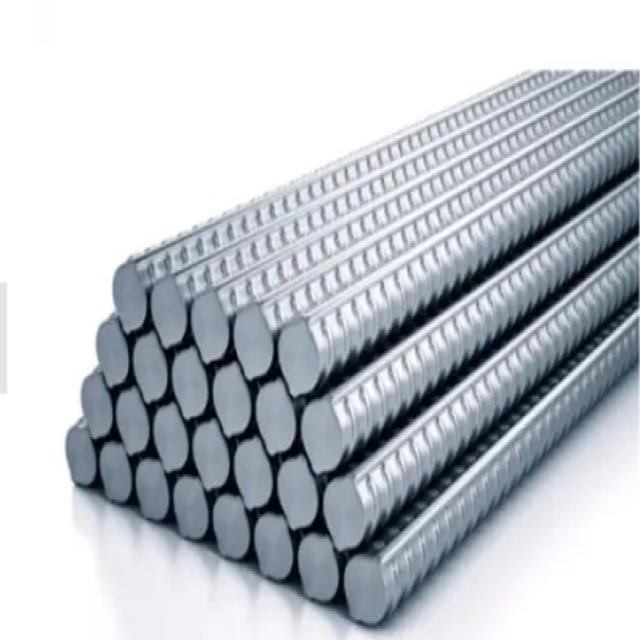Rebar: (228, 310, 277, 378), (278, 455, 319, 532), (301, 404, 346, 471), (326, 481, 369, 551), (233, 442, 276, 512), (299, 534, 341, 605), (345, 558, 388, 627), (278, 325, 321, 394), (171, 351, 212, 421), (128, 334, 172, 398), (258, 385, 300, 451), (95, 317, 133, 389), (255, 510, 294, 577), (195, 426, 232, 495), (149, 284, 189, 346), (213, 498, 254, 558), (66, 423, 101, 491), (216, 367, 250, 436), (192, 295, 226, 362), (117, 392, 153, 455), (137, 462, 174, 523), (115, 266, 151, 328), (154, 409, 189, 469), (82, 377, 115, 438), (102, 442, 136, 500), (176, 479, 208, 537)
